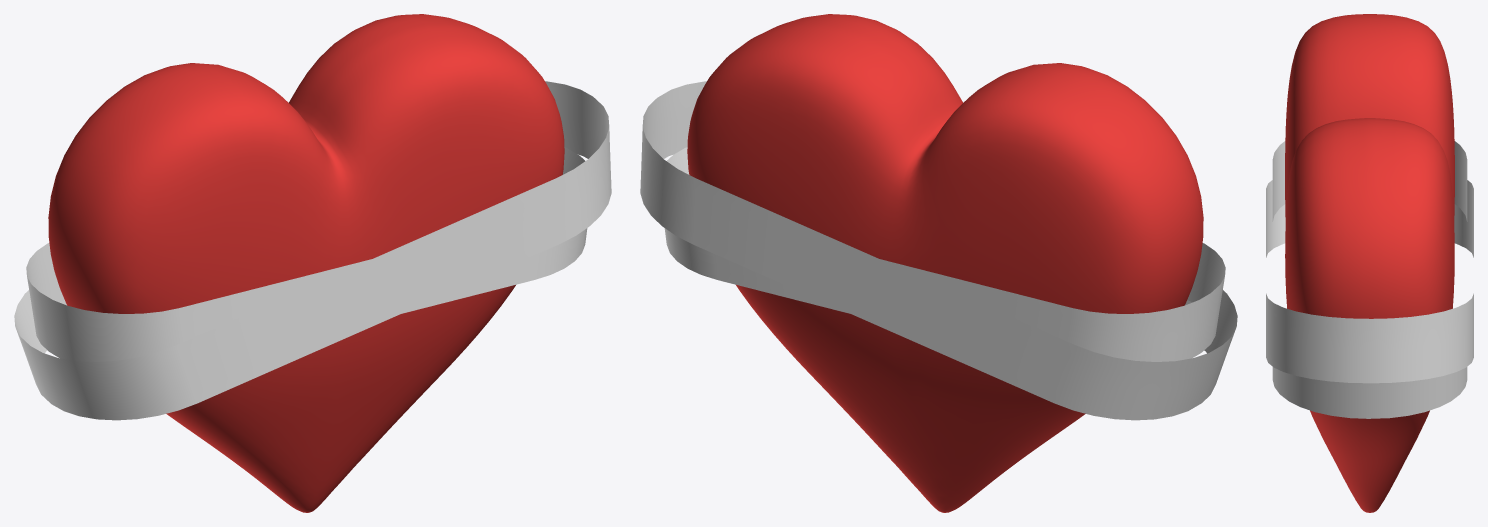
Rendered from mending_heart.glb.
3 renders of one model, left to right at view 1: azimuth 30°, elevation 25°; view 2: azimuth 150°, elevation 25°; view 3: azimuth 270°, elevation 25°, orthographic. The views are drawn at different scales.
Parts seen in each view (by area): view 1: hfdjkslfjkds.017, Plane.011, Plane.008; view 2: hfdjkslfjkds.017, Plane.011, Plane.008; view 3: hfdjkslfjkds.017, Plane.011, Plane.008.
Boxes of the visible parts, x1,y1,x2,y2 form: hfdjkslfjkds.017: [48, 14, 564, 512]; Plane.011: [14, 81, 611, 420]; Plane.008: [26, 147, 587, 361]; hfdjkslfjkds.017: [687, 14, 1203, 512]; Plane.011: [640, 81, 1237, 420]; Plane.008: [664, 147, 1225, 361]; hfdjkslfjkds.017: [1285, 14, 1454, 512]; Plane.011: [1266, 180, 1473, 383]; Plane.008: [1272, 141, 1467, 418].
Size of the model in its own units: 2.17 by 1.68 by 0.7274.
Materials: 1 (1 with a texture image).
